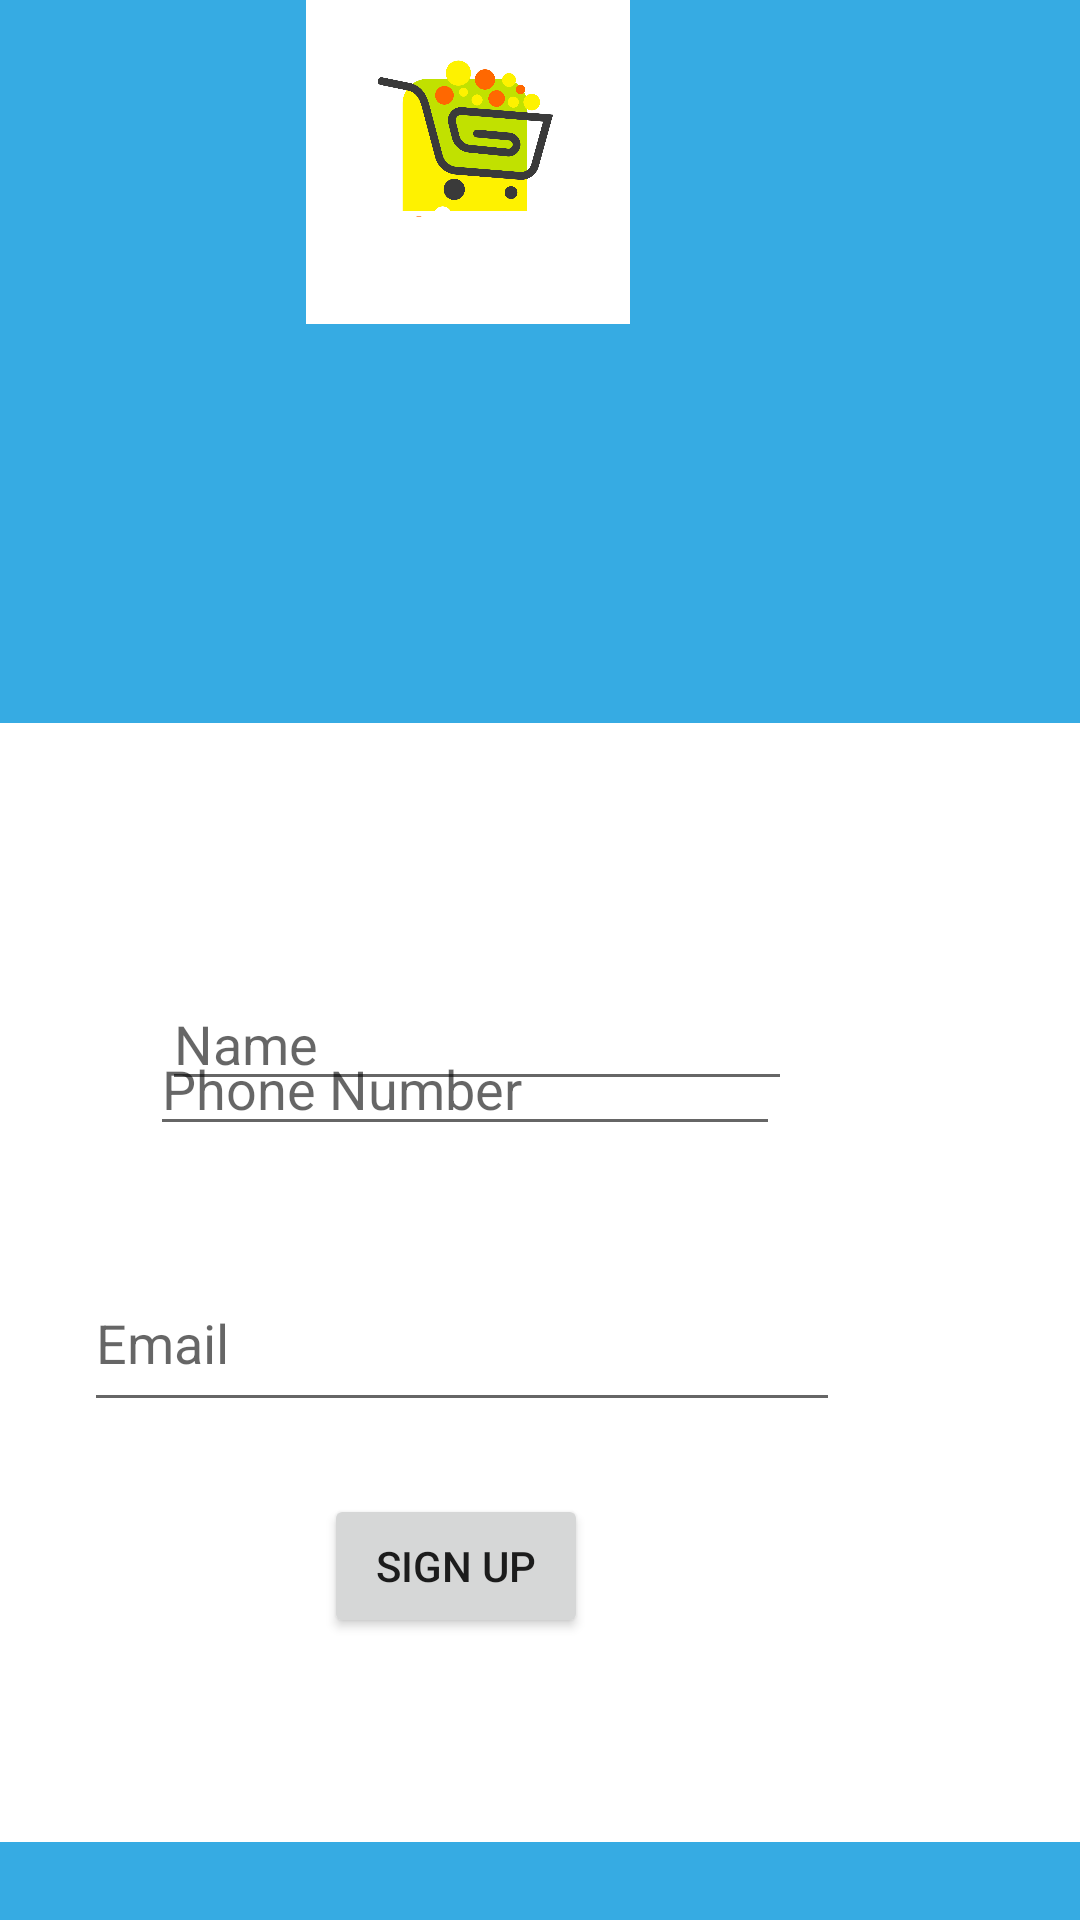

Point at icon controls on the screen. Image size 1080*1920, points as (x,y).
cart: (468,162)
